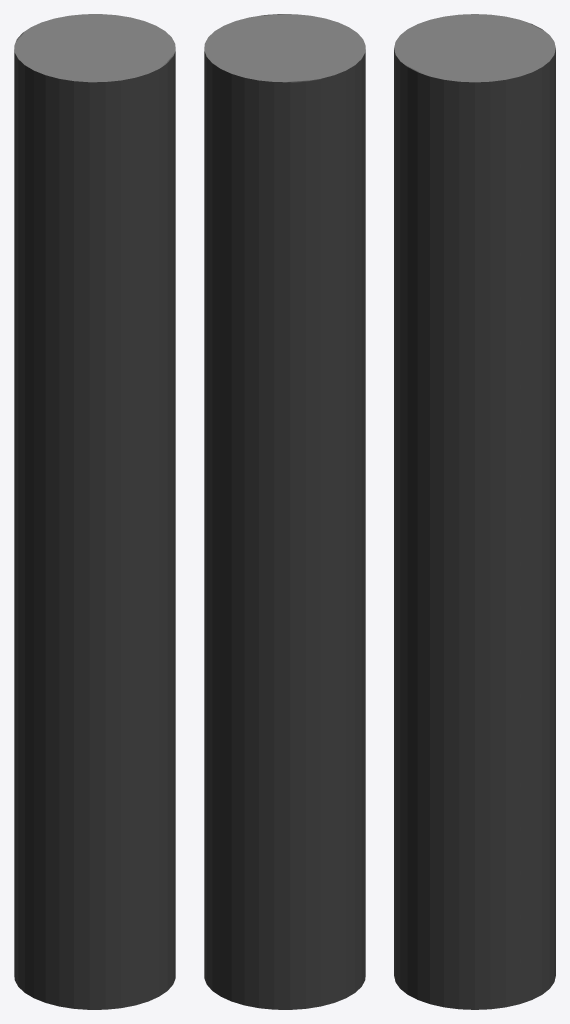
Rendered from Pipe2.fbx.
3 views of the same model, side by side, from view 1: azimuth 30°, elevation 25°; view 2: azimuth 150°, elevation 25°; view 3: azimuth 270°, elevation 25° (orthographic).
Visible parts, largest first — view 1: Pipe2; view 2: Pipe2; view 3: Pipe2.
Part boxes in pixels (x1,y1,x2,y2): Pipe2: [14, 14, 175, 1009]; Pipe2: [204, 14, 365, 1009]; Pipe2: [394, 14, 555, 1009].
Size of the model in its own units: 200 by 1265 by 200.
